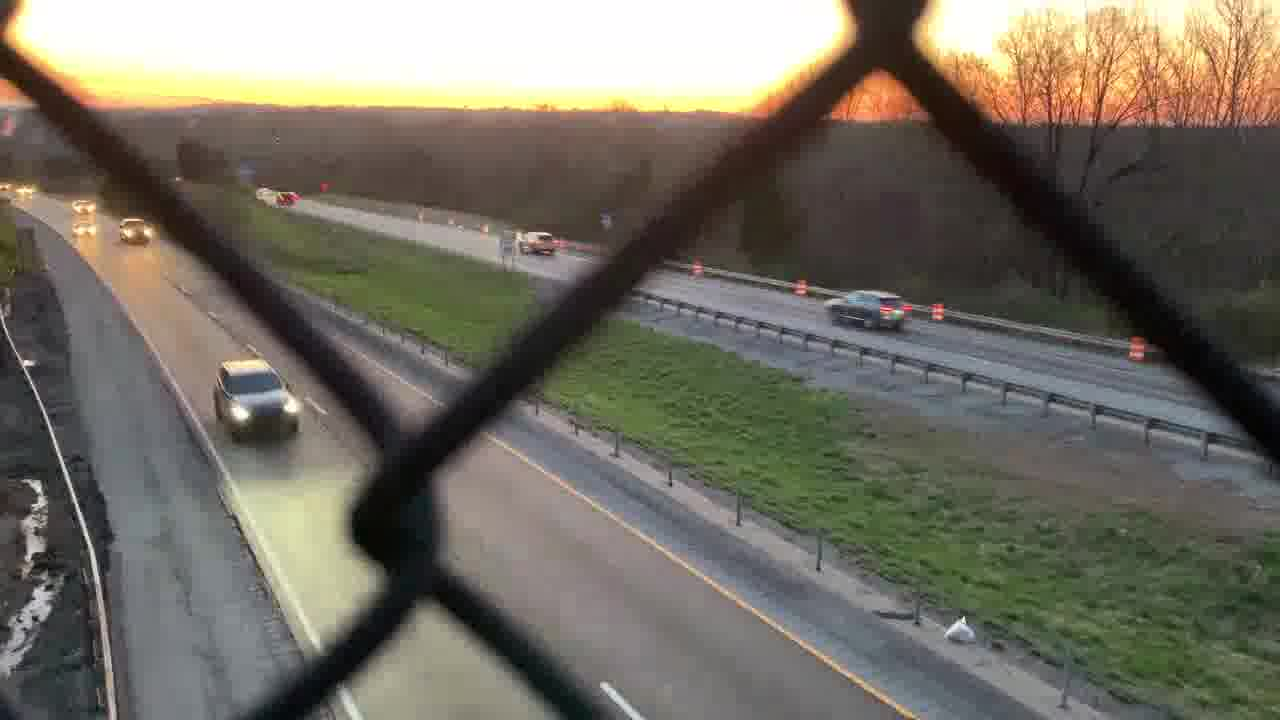largeCar: (215, 360, 303, 445), (823, 279, 912, 338), (514, 227, 556, 256)
lightTruck: (116, 216, 155, 249)
vehicle: (63, 216, 103, 240), (67, 196, 100, 216), (271, 188, 304, 208), (12, 181, 37, 198)
